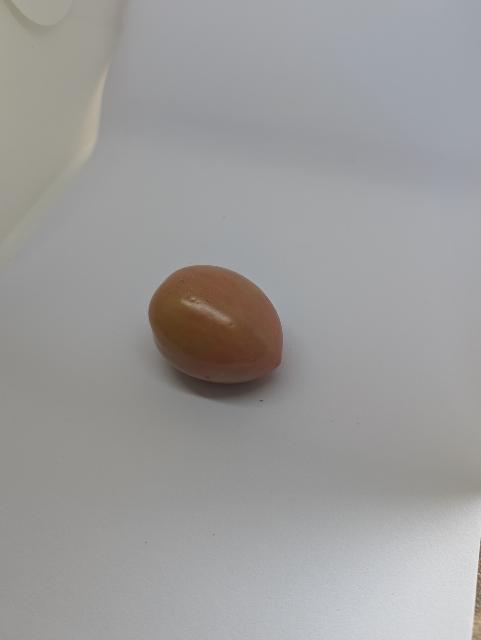turning: (143, 258, 292, 395)
